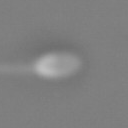normal: (1, 59, 36, 80)
